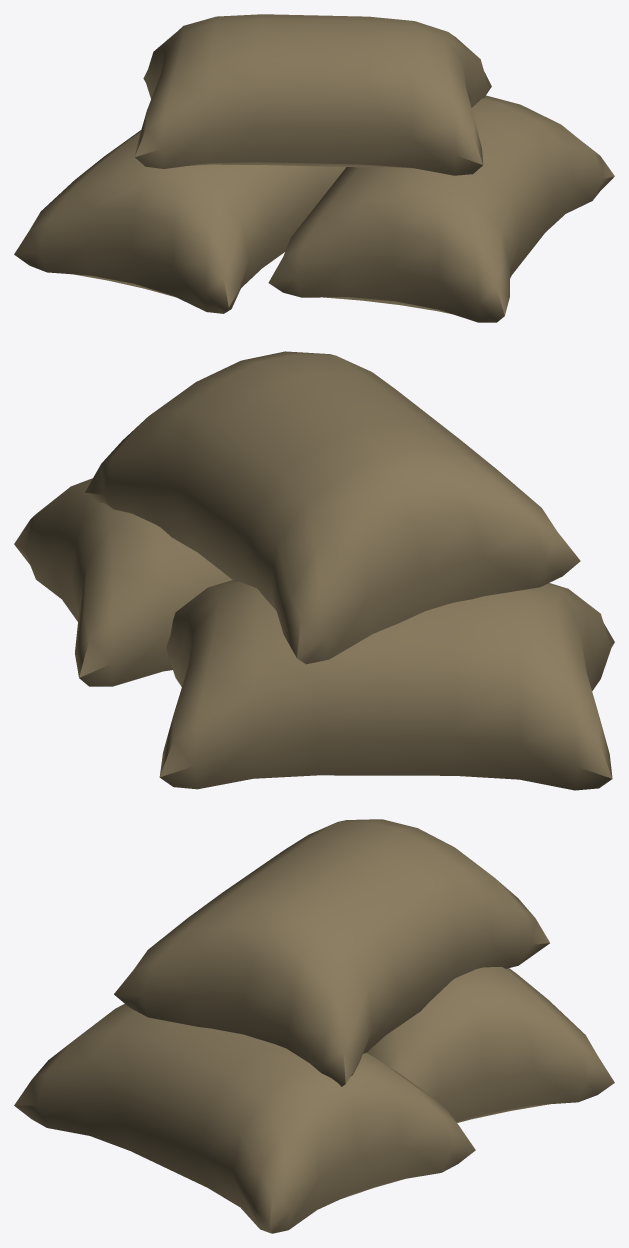
Rendered from Bags.glb.
3 renders of one model, top to bottom at view 1: azimuth 30°, elevation 25°; view 2: azimuth 150°, elevation 25°; view 3: azimuth 270°, elevation 25°, orthographic. The views are drawn at different scales.
Visible parts, largest first — view 1: Bags; view 2: Bags; view 3: Bags.
Part boxes in pixels (x1=…): Bags: x1=14, y1=14, x2=614, y2=322; Bags: x1=14, y1=351, x2=614, y2=790; Bags: x1=14, y1=819, x2=614, y2=1233.
Size of the model in its own units: 0.2697 by 0.1071 by 0.2392.
